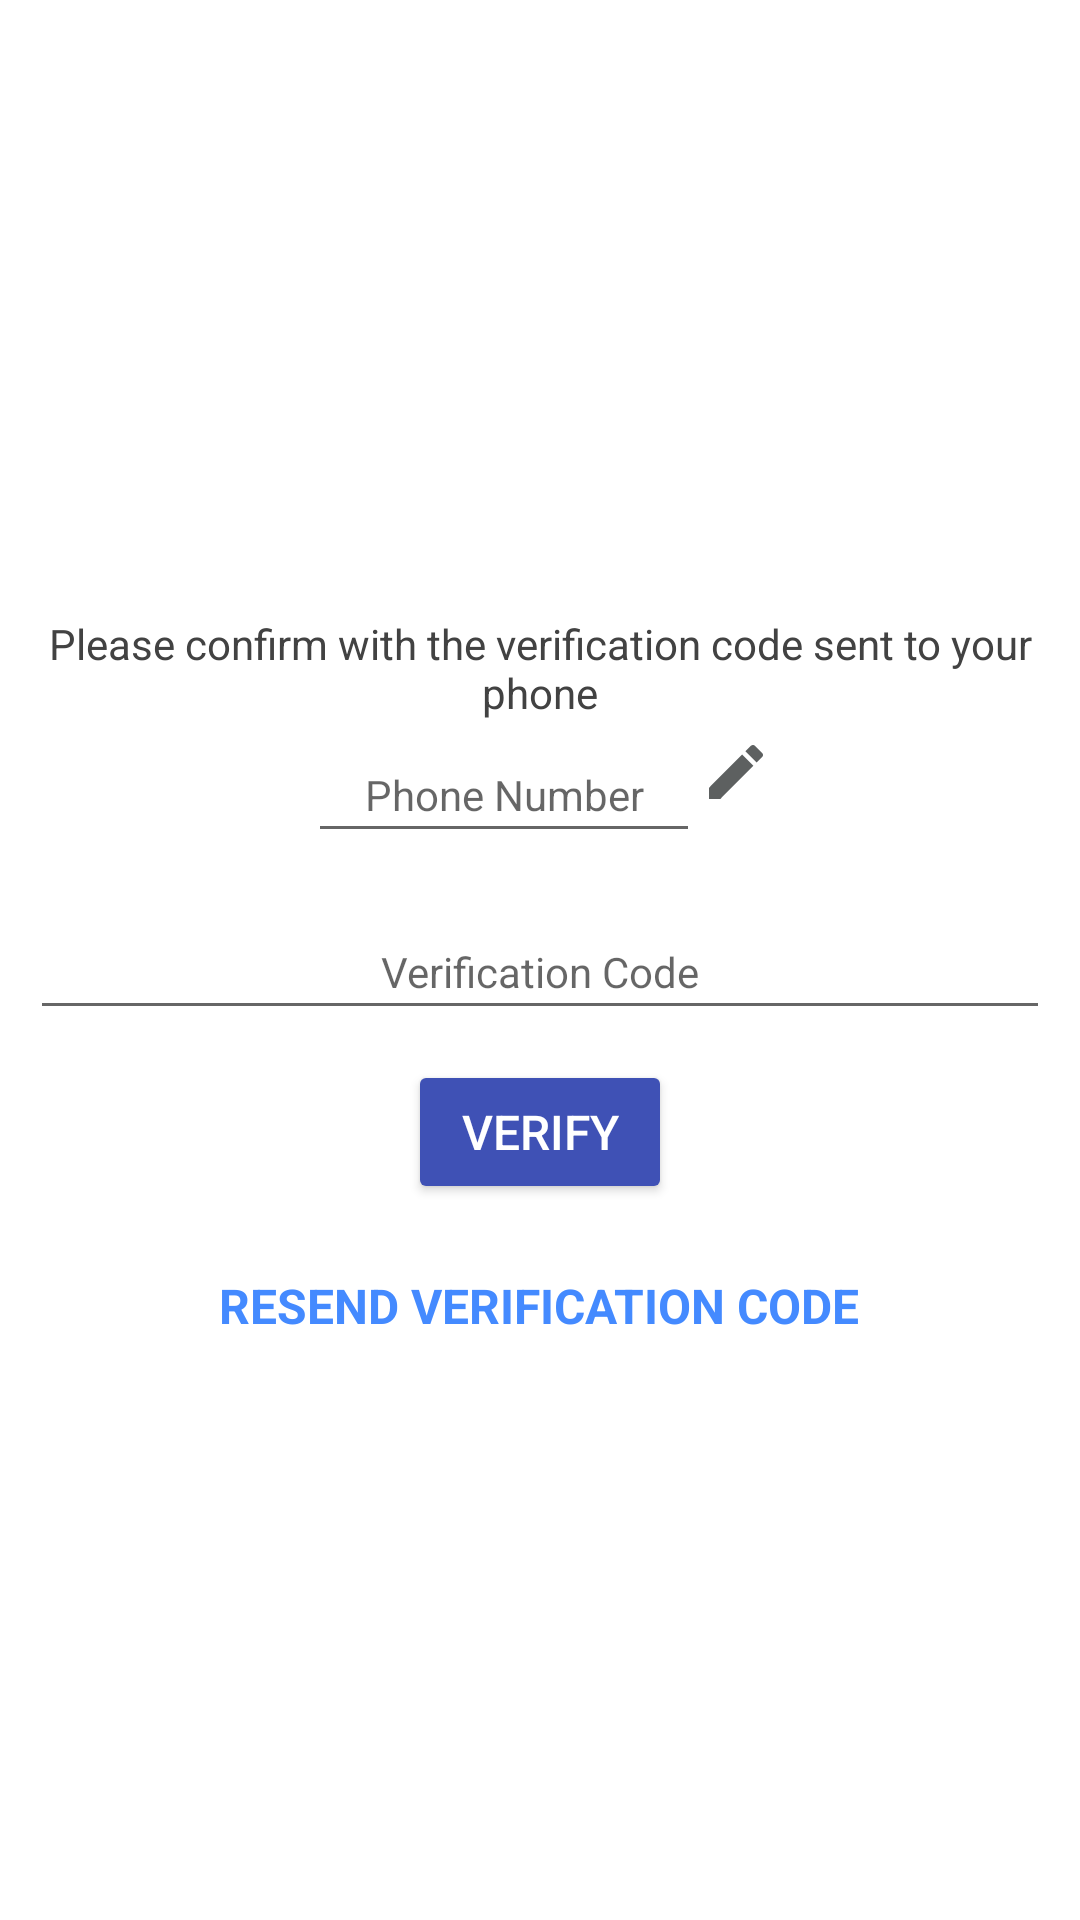

Icon click points for this 1080w x 1920h phone screenshot, format point (x, y):
edit: point (736, 772)
